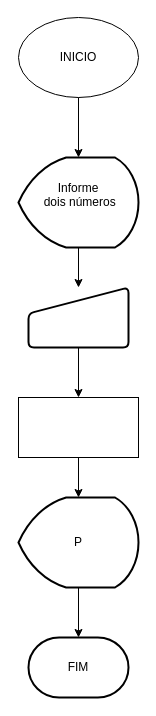
Image size: 156x716. Some labels were removed from this diagram. Each missing label, with the centre of its shape:
"Leia N1, N2" belongs at point 78,317.
"P = N1 X N2" belongs at point 78,427.
